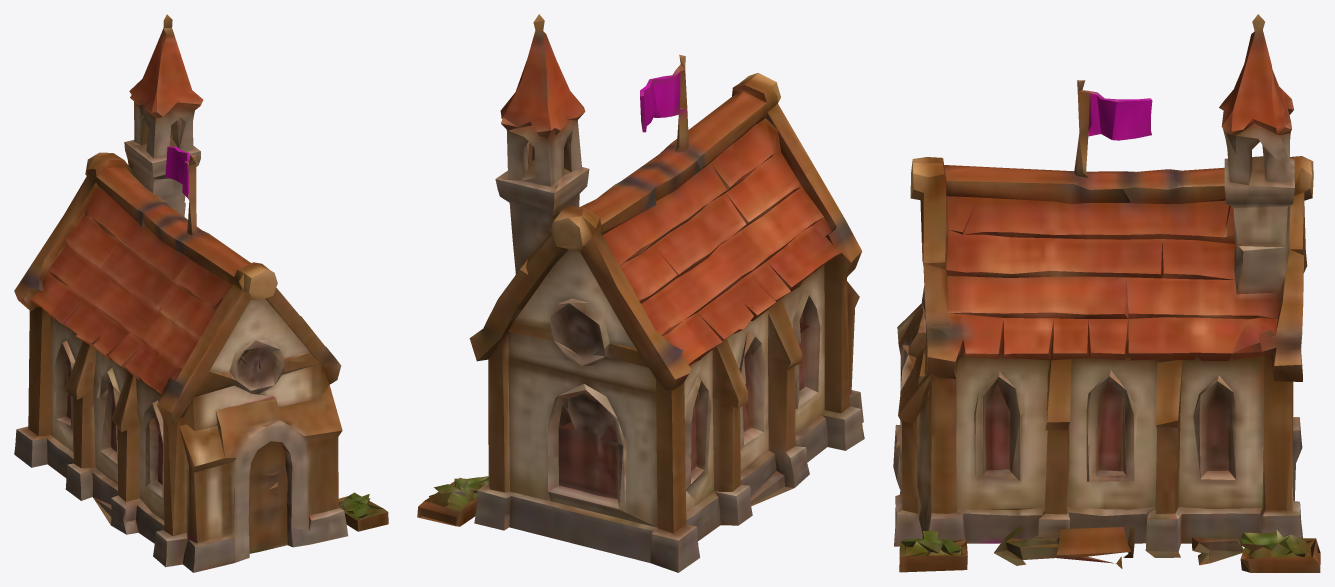
File: chapel2.lod2.glb
The picture shows the model from 3 angles, left to right: view 1: azimuth 30°, elevation 25°; view 2: azimuth 150°, elevation 25°; view 3: azimuth 270°, elevation 25°; orthographic projection. The views are drawn at different scales.
Visible parts, largest first — view 1: chapel2.lod2_uv; view 2: chapel2.lod2_uv; view 3: chapel2.lod2_uv.
Boxes of the visible parts, bbox=[...] form: chapel2.lod2_uv: bbox=[14, 14, 388, 572]; chapel2.lod2_uv: bbox=[417, 14, 864, 572]; chapel2.lod2_uv: bbox=[893, 14, 1320, 572].
Size of the model in its own units: 1 by 1.9 by 1.43.
Materials: 1 (1 with a texture image).
